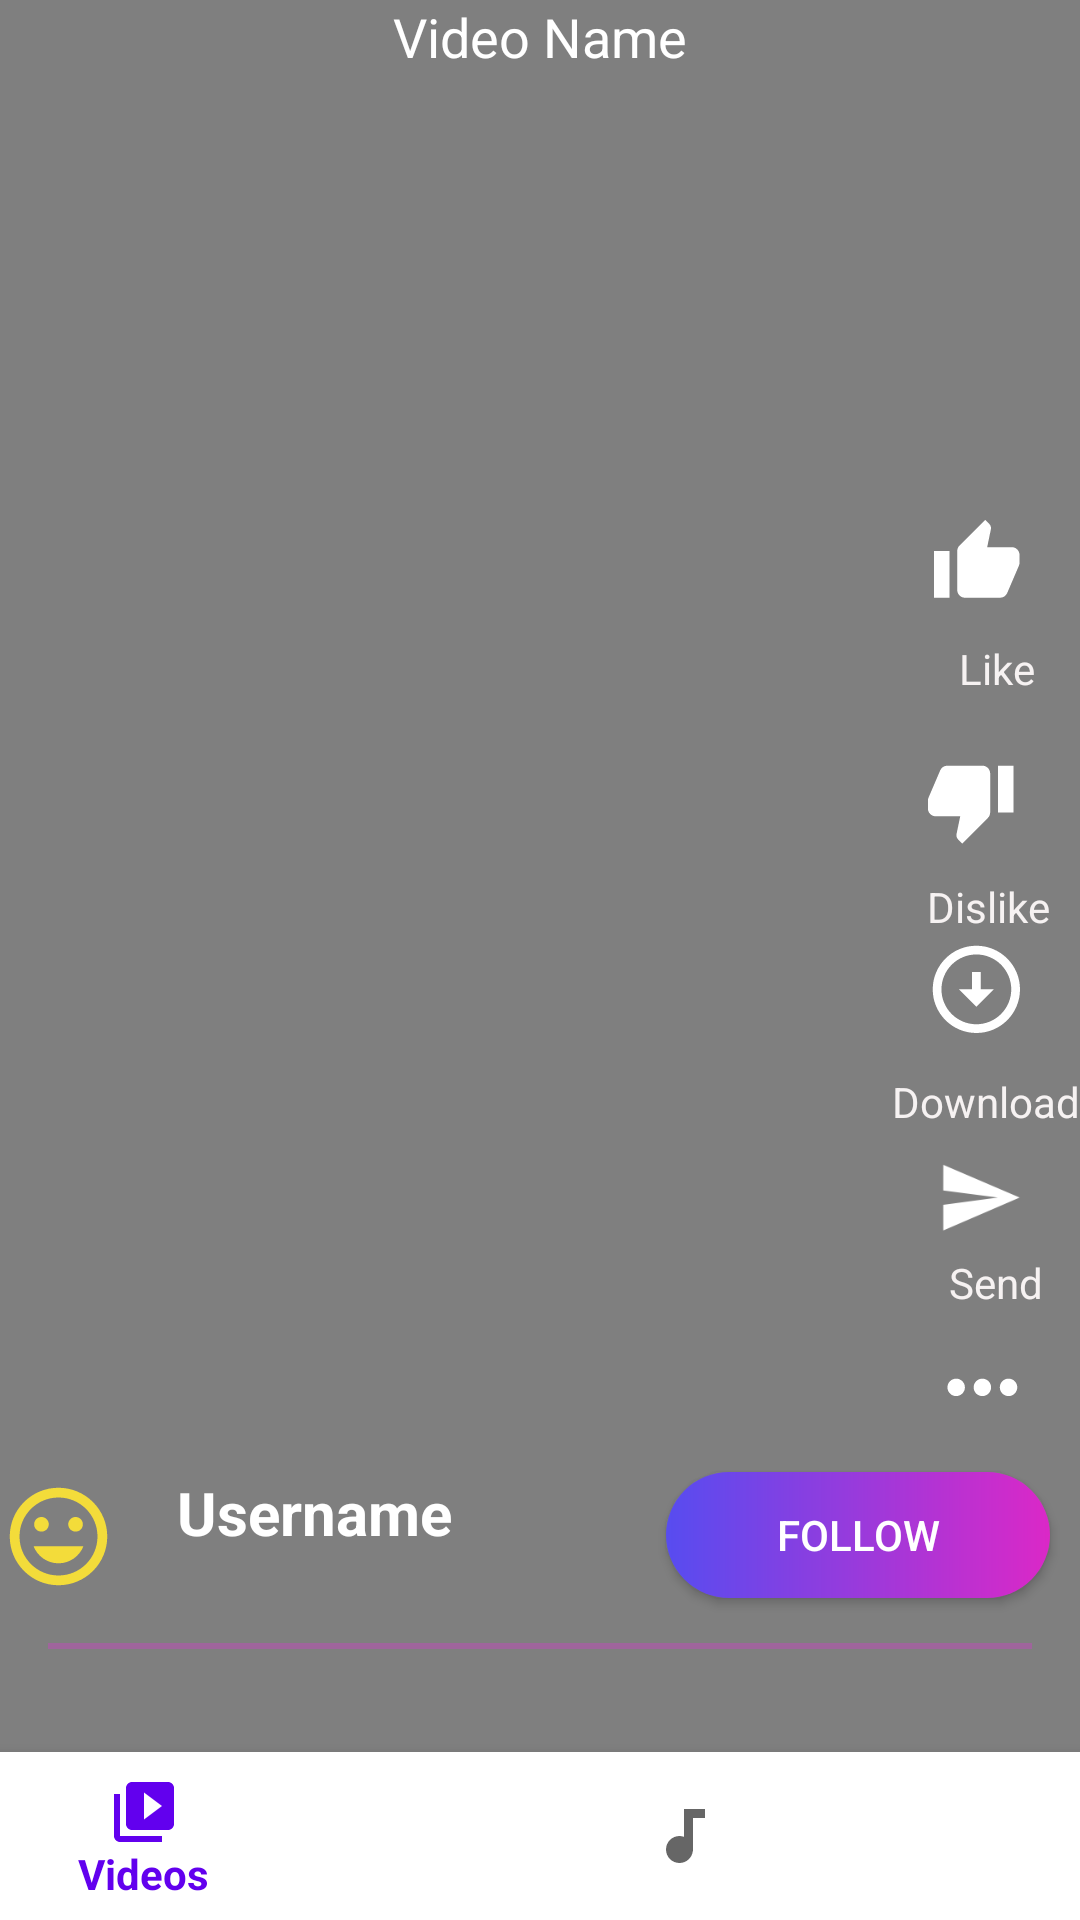

Icon click points for this 1080w x 1920h phone screenshot, format [x,y]:
more: [982,1387]
smiley: [58,1536]
